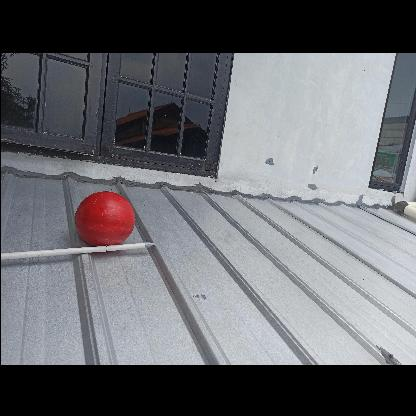red_ball: (76, 188, 134, 246)
